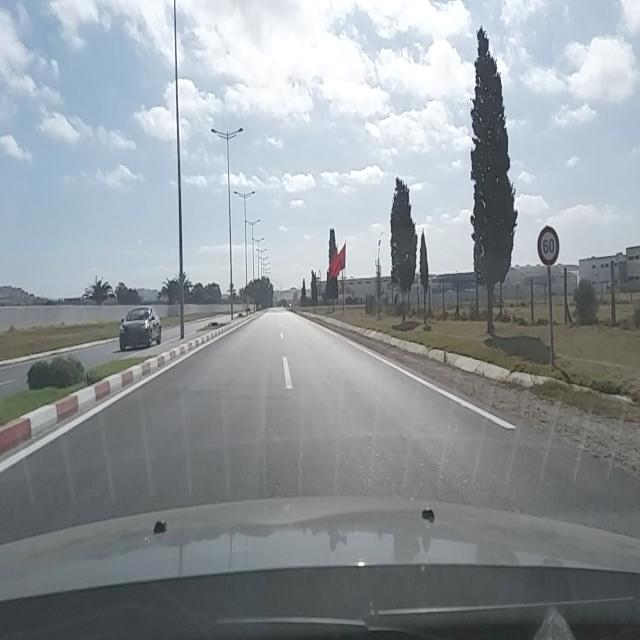car: (118, 306, 162, 352)
